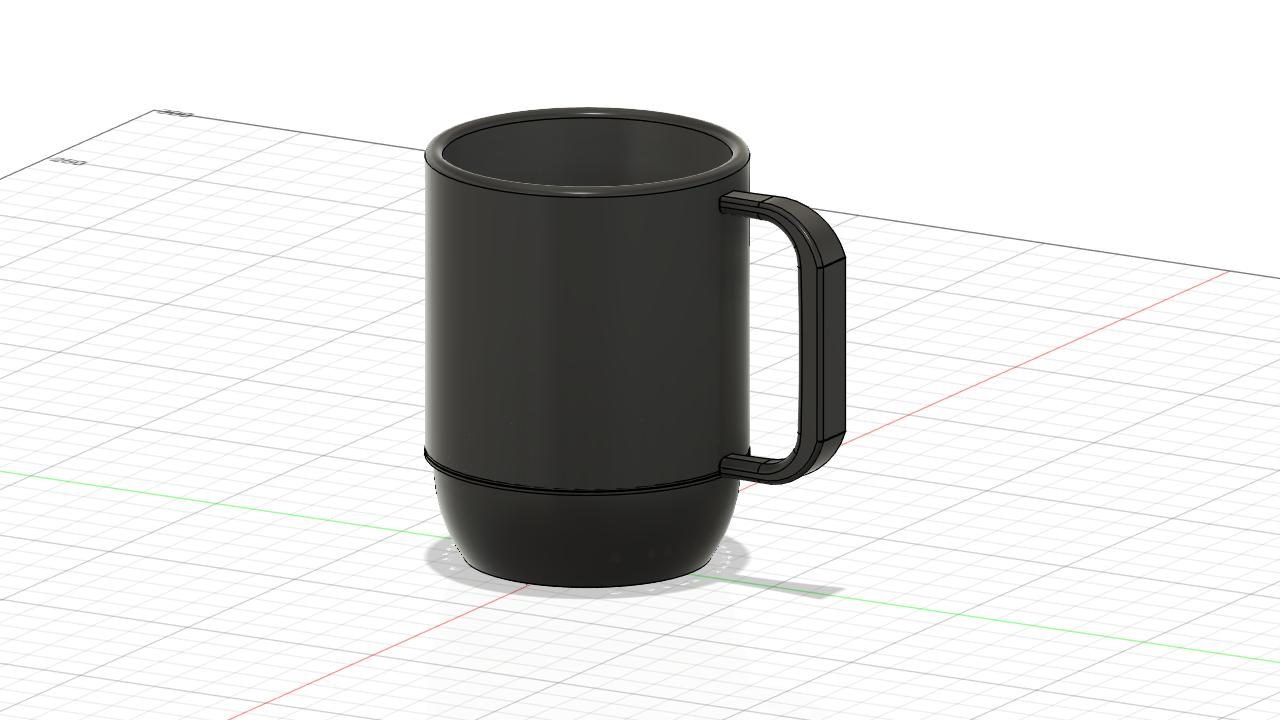mug-real100-3d100: (424, 108, 844, 586)
